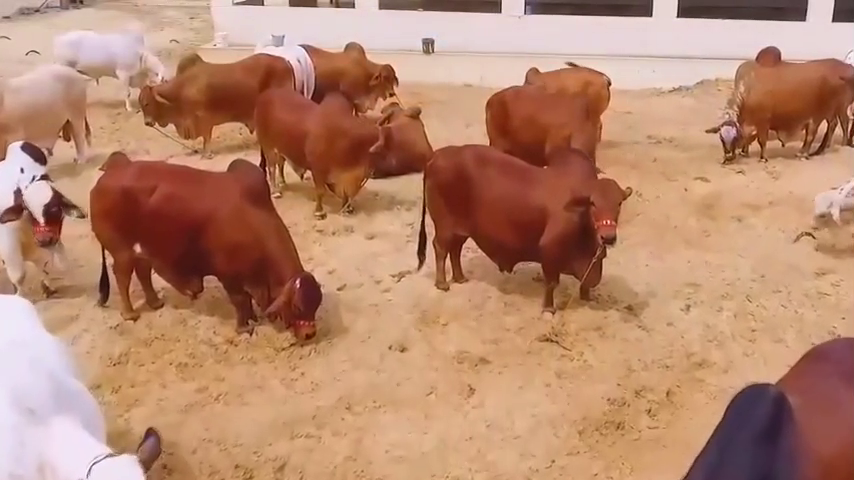bo: (80, 150, 340, 352), (412, 140, 632, 319), (1, 287, 174, 472), (665, 309, 854, 473), (252, 82, 398, 216), (704, 36, 844, 171), (134, 47, 290, 145), (2, 142, 80, 305), (479, 78, 614, 172), (47, 23, 168, 122), (2, 65, 97, 162), (365, 95, 454, 183), (517, 48, 618, 124), (252, 20, 334, 108), (295, 37, 400, 104), (811, 170, 854, 244)
